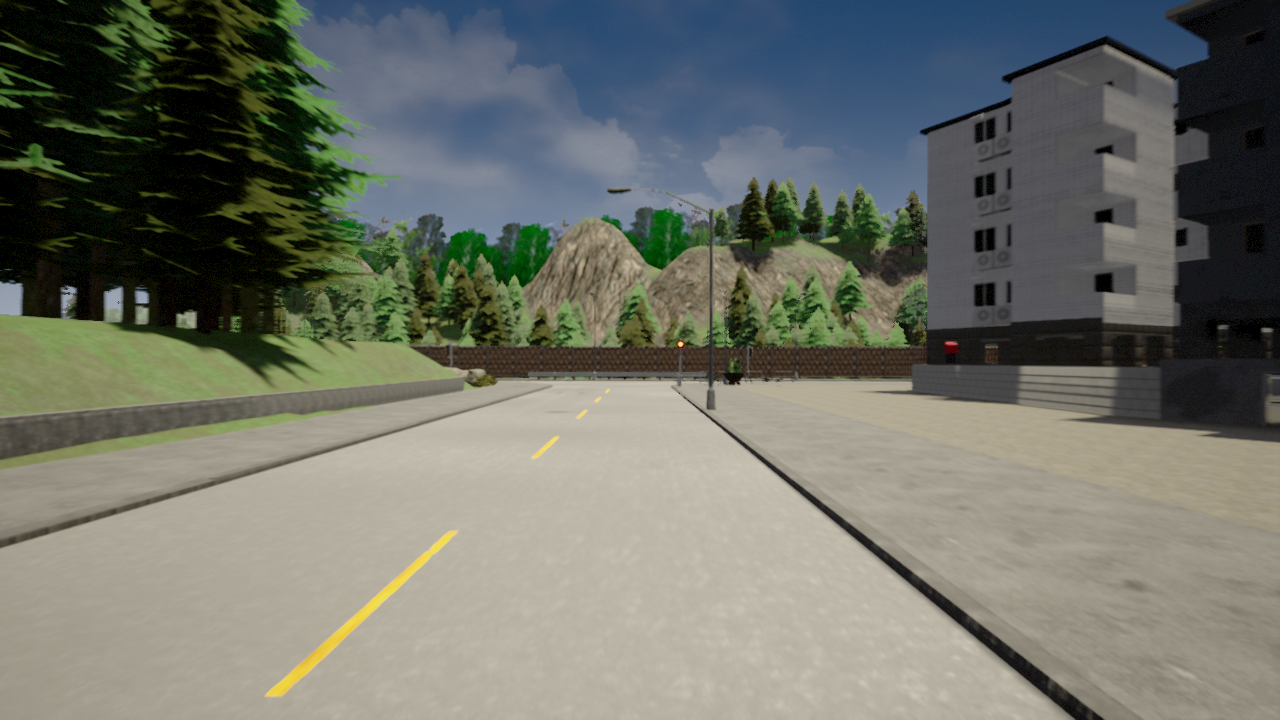red: (677, 339, 684, 355)
